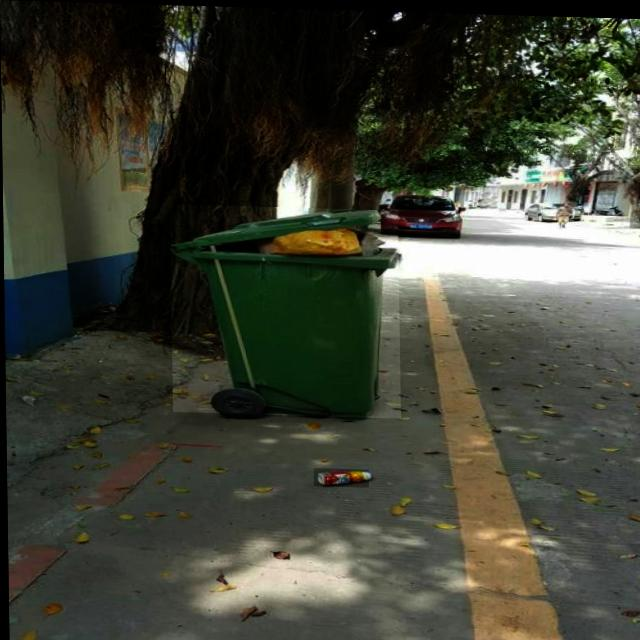garbage: (312, 466, 368, 486)
overflow: (170, 203, 400, 417)
